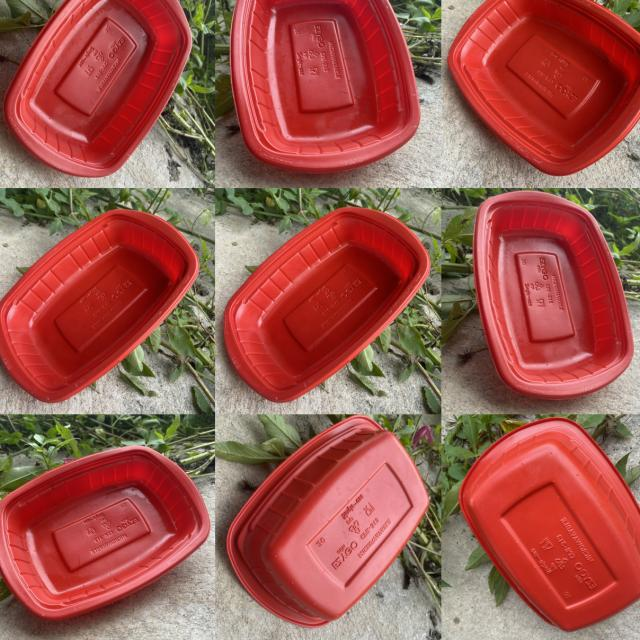plastik: (227, 415, 429, 627), (223, 207, 430, 402), (459, 418, 640, 631), (0, 210, 198, 401), (0, 446, 210, 619), (448, 0, 640, 175), (473, 191, 633, 399), (3, 0, 192, 176), (230, 0, 420, 173)
